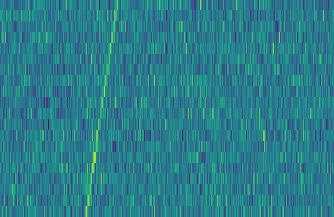signal: (79, 0, 120, 217)
